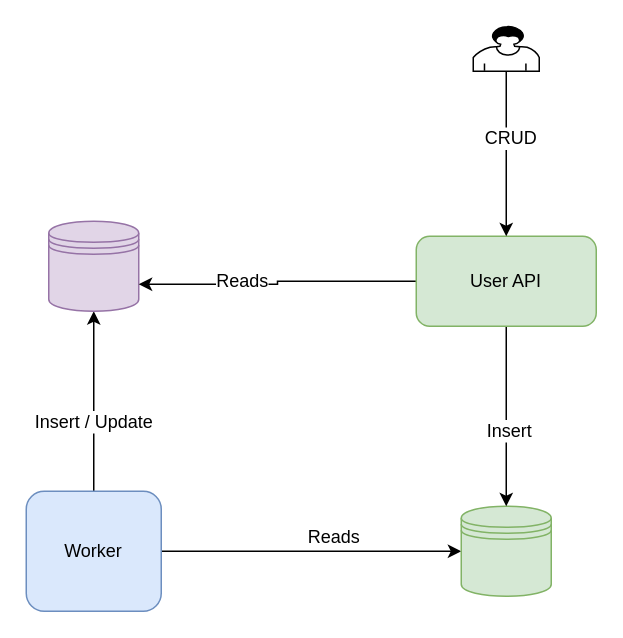
Some shapes in this 623 by 638 pixel diagram are drawn without their labels. Here are the shapes that lost their labels. From the top down, the centre of each, then its label:
At [93,265]: "Users".
At [505,550]: "Events".
